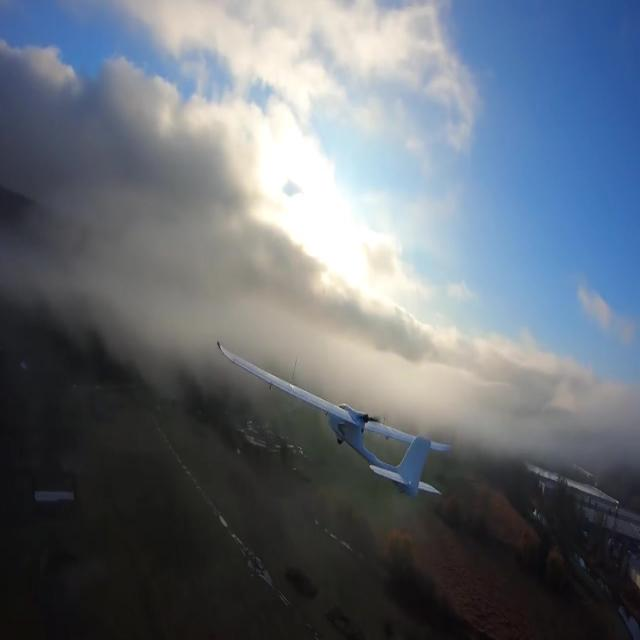iha: (216, 339, 453, 500)
